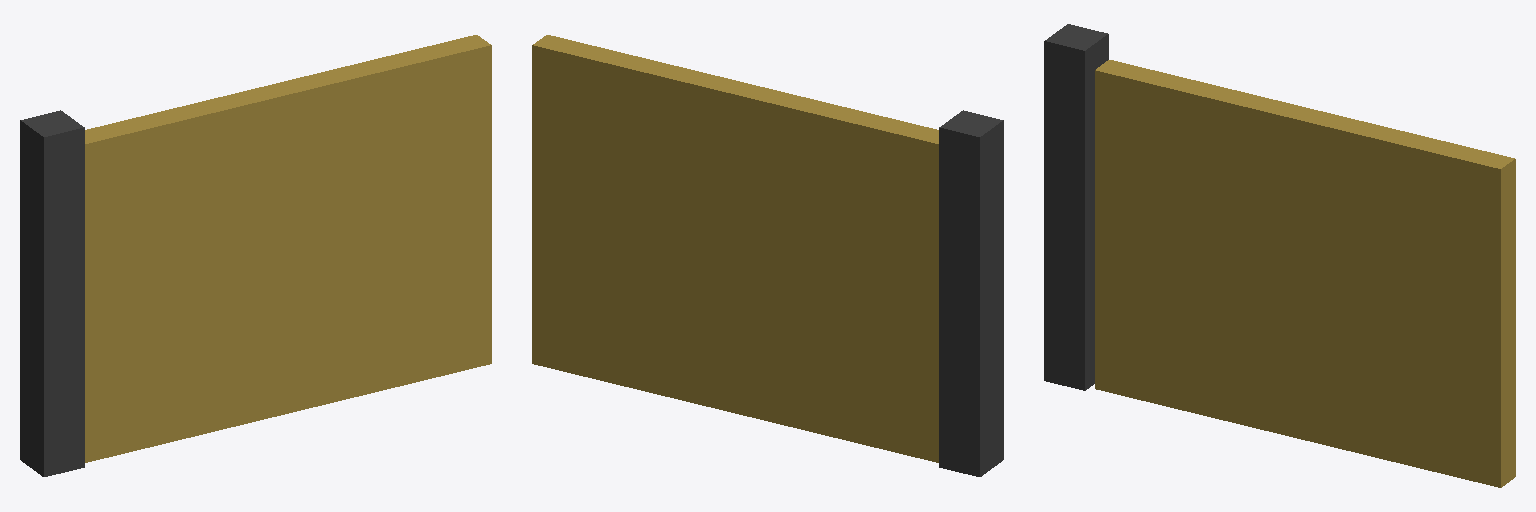
The robot description file, URDF, robot "door":
<?xml version="1.0"?>
<!-- cadpy:sourcePath=../../dimos/robot/sim2_lab/gen_door.py -->
<!-- cadpy:sourceHash=4b4b733c86561f99aea6962d0c636911969d3e0812c52c4c342bbb606d594b0d -->
<robot name="door">
  <link name="base">
    <inertial>
      <origin xyz="0 0 .16" />
      <mass value="1.0" />
      <inertia ixx="0.008666666666666668" iyy="0.008666666666666668" izz="0.0002666666666666667" ixy="0" ixz="0" iyz="0" />
    </inertial>
    <visual>
      <origin xyz="0 0 .16" />
      <geometry>
        <box size="0.04 0.04 0.32" />
      </geometry>
      <material name="base">
        <color rgba=".3 .3 .3 1" />
      </material>
    </visual>
    <collision>
      <origin xyz="0 0 .16" />
      <geometry>
        <box size="0.04 0.04 0.32" />
      </geometry>
    </collision>
  </link>
  <link name="panel">
    <inertial>
      <origin xyz=".225 0 .15" />
      <mass value="0.4" />
      <inertia ixx="0.0030208333333333333" iyy="0.008333333333333333" izz="0.005354166666666668" ixy="0" ixz="0" iyz="0" />
    </inertial>
    <visual>
      <origin xyz=".225 0 .15" />
      <geometry>
        <box size="0.4 0.025 0.3" />
      </geometry>
      <material name="panel">
        <color rgba=".7 .6 .3 1" />
      </material>
    </visual>
    <collision>
      <origin xyz=".225 0 .15" />
      <geometry>
        <box size="0.4 0.025 0.3" />
      </geometry>
    </collision>
  </link>
  <joint name="hinge" type="revolute">
    <parent link="base" />
    <child link="panel" />
    <axis xyz="0 0 1" />
    <limit lower="-1.5" upper="1.5" effort="10" velocity="2" />
    <dynamics damping=".1" />
  </joint>
</robot>

--- Facts derived from the render (not from the file) ---
The picture shows the robot from 3 angles, left to right: view 1: azimuth 30°, elevation 25°; view 2: azimuth 150°, elevation 25°; view 3: azimuth 330°, elevation 25°; orthographic projection.
Model door with 2 links and 1 joints (1 revolute), rooted at base, posed all joints at 0.
Links seen in each view (by area): view 1: panel, base; view 2: panel, base; view 3: panel, base.
Link boxes in pixels (x1,y1,x2,y2): panel: (85,35,491,462); base: (20,110,84,476); panel: (532,35,938,462); base: (939,110,1003,476); panel: (1095,60,1515,487); base: (1044,24,1108,390).
Size in the robot's own frame: 0.445 by 0.04 by 0.32 metres.
Geometry: primitives only (box / cylinder / sphere), no mesh files.
